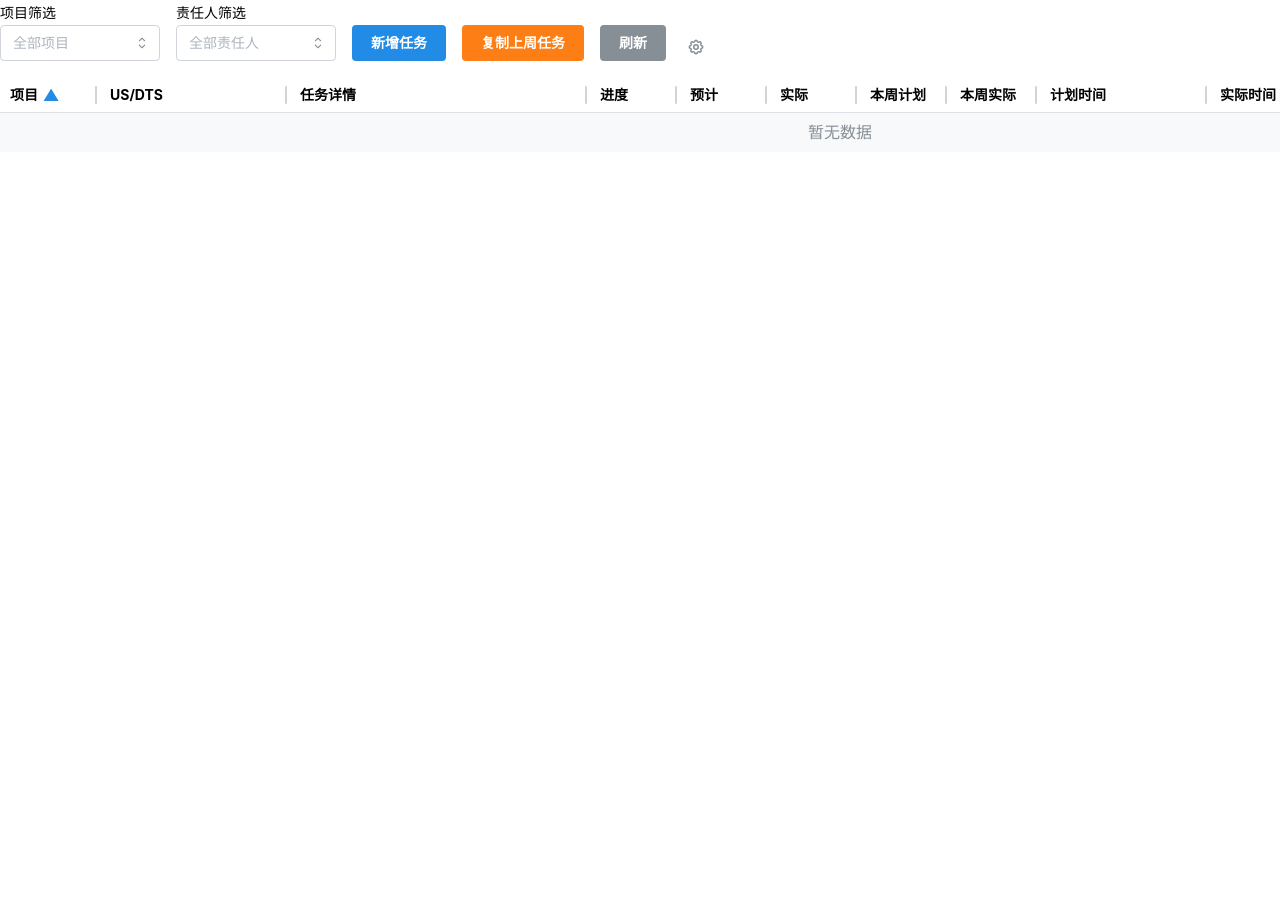
TaskTable 列配置隐藏集成测试 › 点击"最少"按钮仅保留第一列
Click the 4th button: (696, 47) [682, 33, 710, 61]
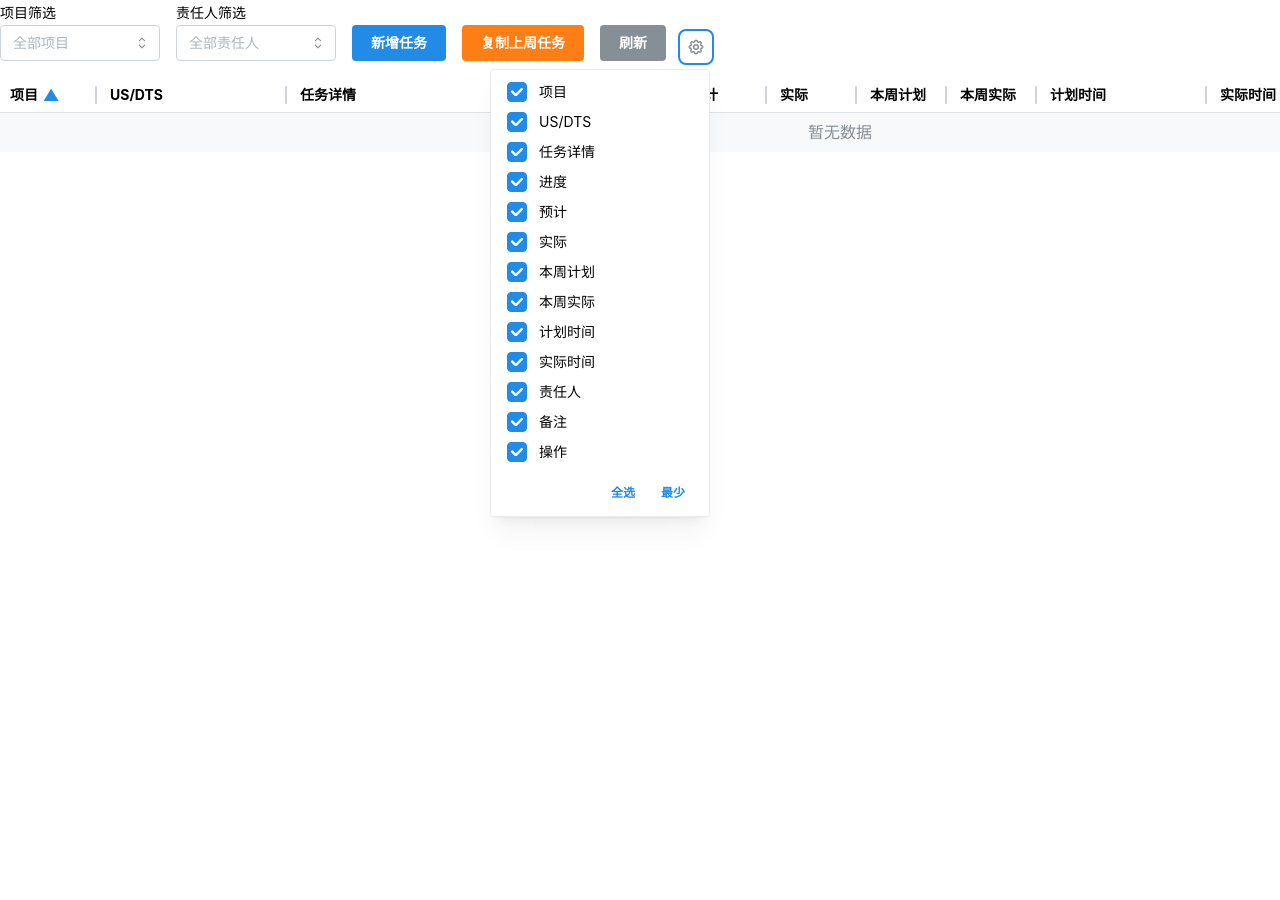
Click the button "最少": (673, 493) [653, 482, 693, 504]
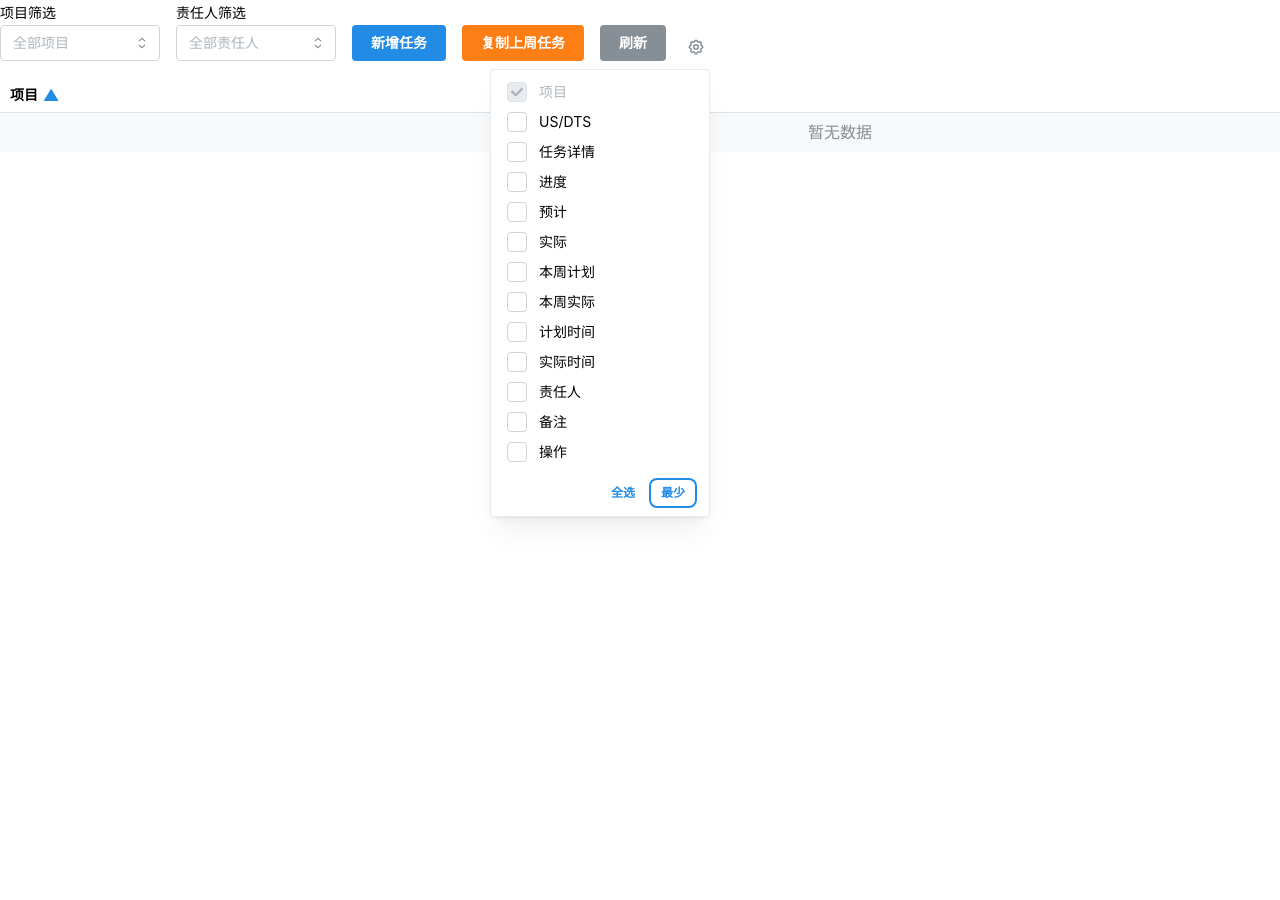
Click the 4th button: (696, 47) [682, 33, 710, 61]
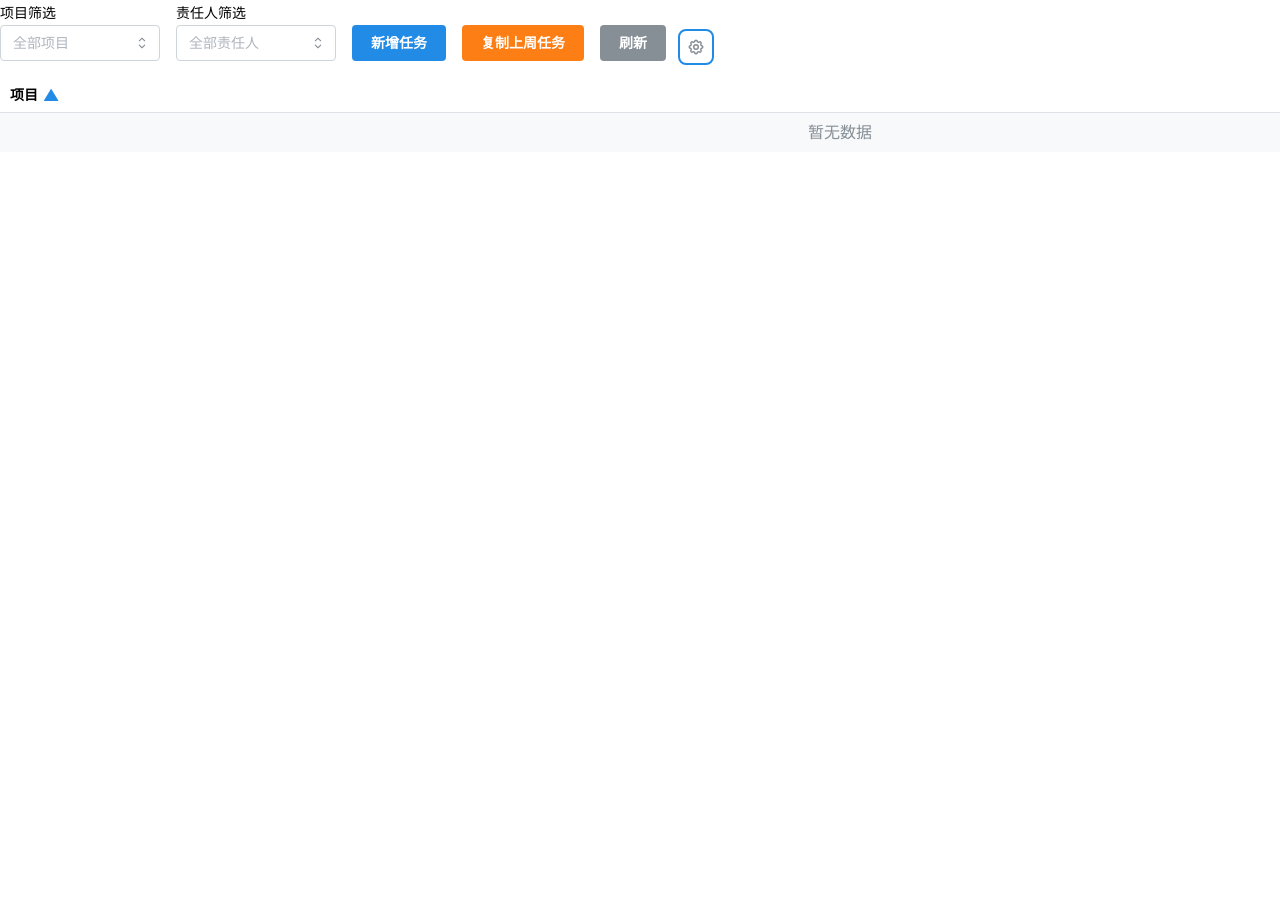
Expected: the column heading "项目 ▲" is shown, [0, 77, 1279, 113]
Now the text "US/DTS" is gone
